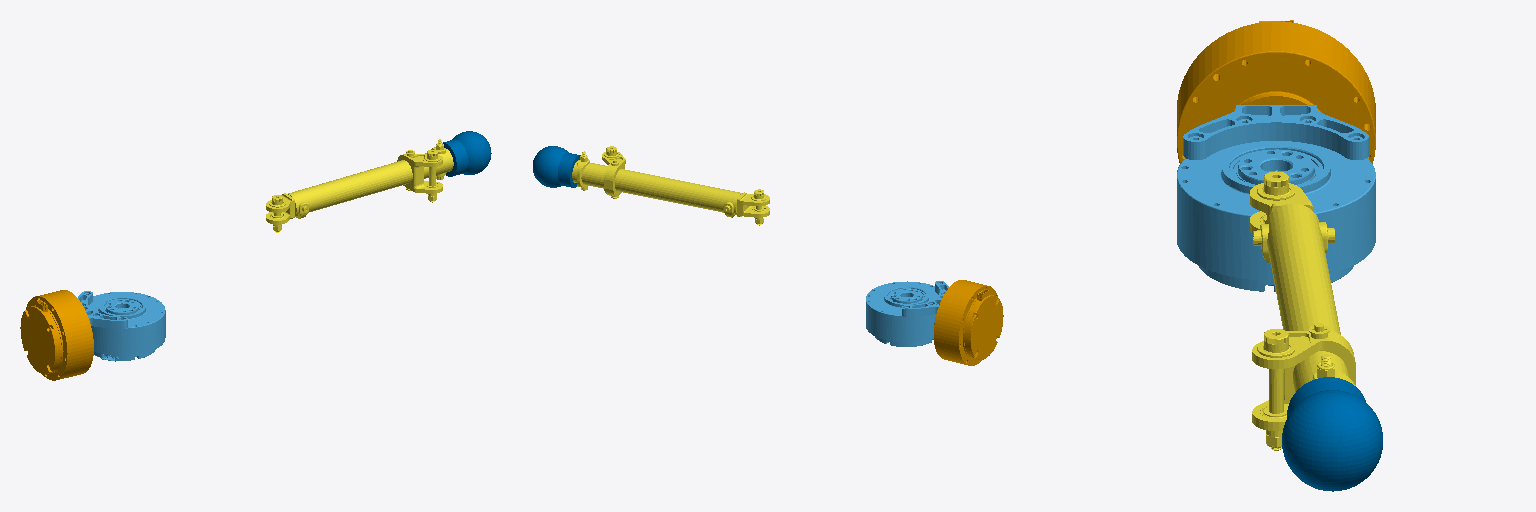
URDF robot description (MagicLimbRobotPlanarFL):
<?xml version='1.0' encoding='utf-8'?>
<robot name="MagicLimbRobotPlanarFL">
    <link name="MotorHip">
        <visual name="MotorHip_visual">
            <origin xyz="0.0 0.0 0.0" rpy="0.0 0.0 0.0" />
            <geometry>
                <mesh filename="meshes/MotorHip.stl" scale="0.001 0.001 0.001" />
            </geometry>
        </visual>
        <collision name="MotorHip_collision">
            <origin xyz="0.0 0.0 0.0" rpy="0.0 0.0 0.0" />
            <geometry>
                <mesh filename="meshes/MotorHip.stl" scale="0.001 0.001 0.001" />
            </geometry>
        </collision>
    </link>
    <link name="MotorThigh">
        <visual name="MotorThigh_visual">
            <origin xyz="0 0 0" rpy="0 0 0" />
            <geometry>
                <mesh filename="meshes/MotorThigh.stl" scale="0.001 0.001 0.001" />
            </geometry>
        </visual>
        <collision name="MotorThigh_collision">
            <origin xyz="0 0 0" rpy="0 0 0" />
            <geometry>
                <mesh filename="meshes/MotorThigh.stl" scale="0.001 0.001 0.001" />
            </geometry>
        </collision>
    </link>
    <link name="ThighReal_P">
        <visual name="ThighReal_P_visual">
            <origin xyz="0 0 0" rpy="0 0 0" />
            <geometry>
                <mesh filename="meshes/ThighReal_P.stl" scale="0.001 0.001 0.001" />
            </geometry>
        </visual>
        <collision name="ThighReal_P_collision">
            <origin xyz="0 0 0" rpy="0 0 0" />
            <geometry>
                <mesh filename="meshes/ThighReal_P.stl" scale="0.001 0.001 0.001" />
            </geometry>
        </collision>
    </link>
    <link name="CalfReal_P">
        <visual name="CalfReal_P_visual">
            <origin xyz="0 0 0" rpy="0 0 0" />
            <geometry>
                <mesh filename="meshes/CalfReal_P.stl" scale="0.001 0.001 0.001" />
            </geometry>
        </visual>
        <collision name="CalfReal_P_collision">
            <origin xyz="0 0 0" rpy="0 0 0" />
            <geometry>
                <mesh filename="meshes/CalfReal_P.stl" scale="0.001 0.001 0.001" />
            </geometry>
        </collision>
    </link>
    <link name="Foot">
        <visual name="Foot_visual">
            <origin xyz="0 0 0" rpy="0 0 0" />
            <geometry>
                <mesh filename="meshes/Foot.stl" scale="0.001 0.001 0.001" />
            </geometry>
        </visual>
        <collision name="Foot_collision">
            <origin xyz="0 0 0" rpy="0 0 0" />
            <geometry>
                <mesh filename="meshes/Foot.stl" scale="0.001 0.001 0.001" />
            </geometry>
        </collision>
    </link>
    <joint name="hip" type="revolute">
        <origin xyz="0.0 0.0 0.0" rpy="0.0 0.0 0.0" />
        <parent link="MotorHip" />
        <child link="MotorThigh" />
        <axis xyz="1.0 0.0 0.0" />
        <limit lower="-3.141592654" upper="0" effort="1000000" velocity="1000000" />
    </joint>
    <joint name="thigh" type="revolute">
        <origin xyz="0.0 0.0 0.0746188" rpy="0.0 0.0 0.0" />
        <parent link="MotorThigh" />
        <child link="ThighReal_P" />
        <axis xyz="0.0 0.0 1.0" />
        <limit lower="0" upper="3.141592654" effort="1000000" velocity="1000000" />
    </joint>
    <joint name="knee" type="revolute">
        <origin xyz="0.16252077 0.0 0.0" rpy="0.0 0.0 0.0" />
        <parent link="ThighReal_P" />
        <child link="CalfReal_P" />
        <axis xyz="0.0 0.0 1.0" />
        <limit lower="-3.141592654" upper="0" effort="1000000" velocity="1000000" />
    </joint>

    <joint name="foot_fix" type="fixed">
        <origin xyz="0.2139119 0.02217425 -0.0046188" rpy="0.0 0.0 1.6509" />
        <parent link="CalfReal_P" />
        <child link="Foot" />
    </joint>
    
</robot>

--- Render facts (derived) ---
Views: 3 orthographic renders of the robot side by side, from view 1: azimuth 30°, elevation 25°; view 2: azimuth 150°, elevation 25°; view 3: azimuth 270°, elevation 25°.
Model MagicLimbRobotPlanarFL with 5 links and 4 joints (3 revolute, 1 fixed), rooted at MotorHip, posed every joint at zero.
Links seen in each view (by area): view 1: CalfReal_P, MotorHip, MotorThigh, Foot; view 2: CalfReal_P, MotorHip, MotorThigh, Foot; view 3: MotorThigh, CalfReal_P, MotorHip, Foot.
Link boxes in pixels (x1,y1,x2,y2): CalfReal_P: (266,139,453,232); MotorHip: (20,290,93,380); MotorThigh: (78,291,165,361); Foot: (443,131,491,176); CalfReal_P: (572,146,769,225); MotorHip: (934,280,1003,365); MotorThigh: (866,281,948,346); Foot: (533,146,580,187); MotorThigh: (1177,105,1375,291); CalfReal_P: (1250,171,1355,450); MotorHip: (1177,20,1375,163); Foot: (1282,377,1382,491).
Size in the robot's own frame: 0.4849 by 0.0814 by 0.1318 metres.
Meshes: 5 distinct files referenced, 4 mesh visuals loaded (4 binary STL); not drawn: 1 (reference not matched to a file when rendering).
